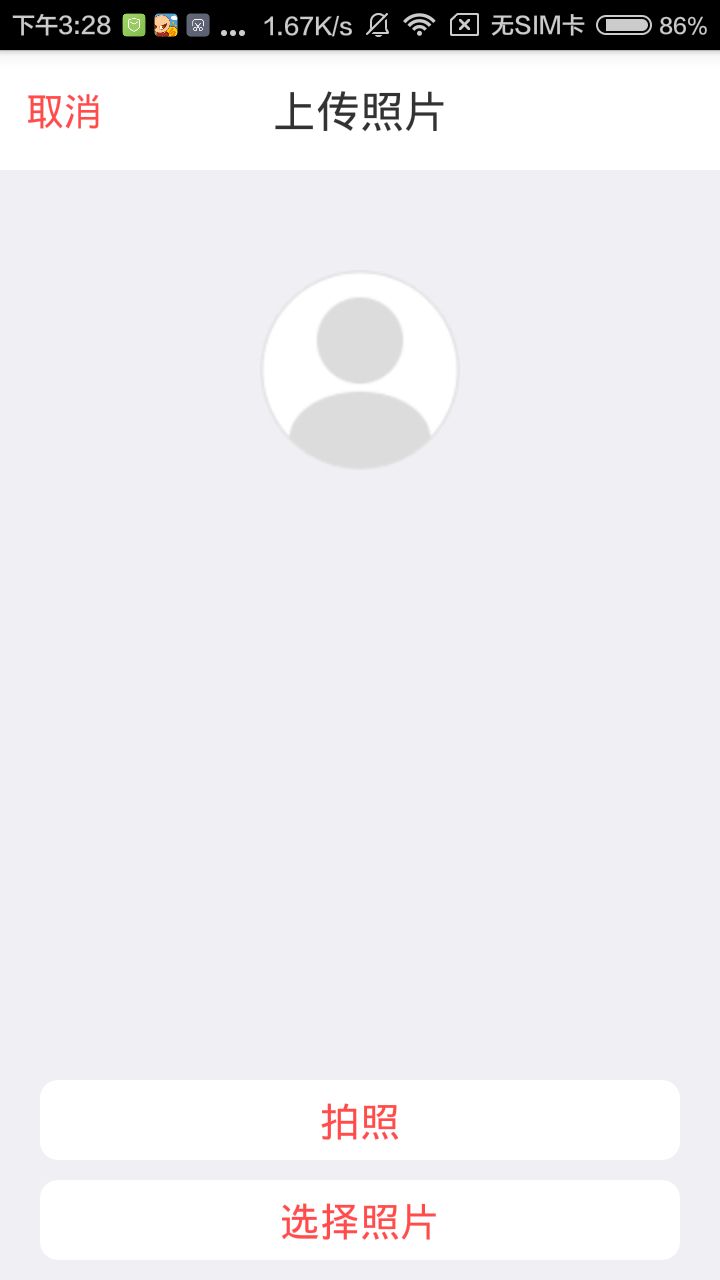button: (35, 1175, 690, 1267), (35, 1076, 687, 1168), (20, 80, 120, 140)
imgview: (252, 261, 471, 475)
